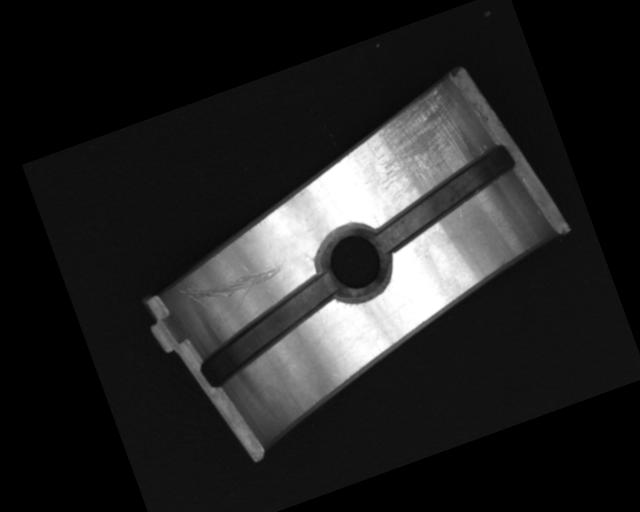gap: (183, 268, 354, 390), (358, 141, 529, 253)
hole: (309, 217, 399, 309)
nick: (175, 250, 291, 328)
scratch: (356, 77, 484, 203)
